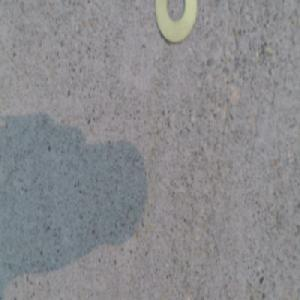Washer: (155, 0, 198, 44)
